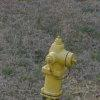Hydrant: (35, 31, 76, 100)
